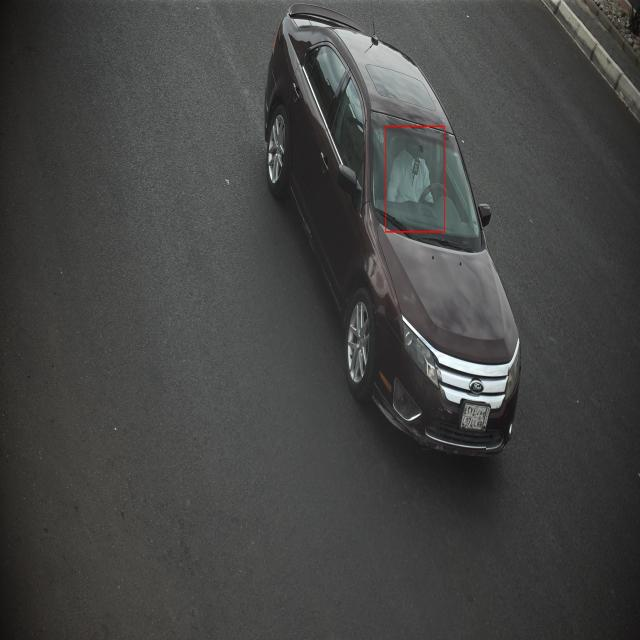windshield: (367, 104, 484, 254)
